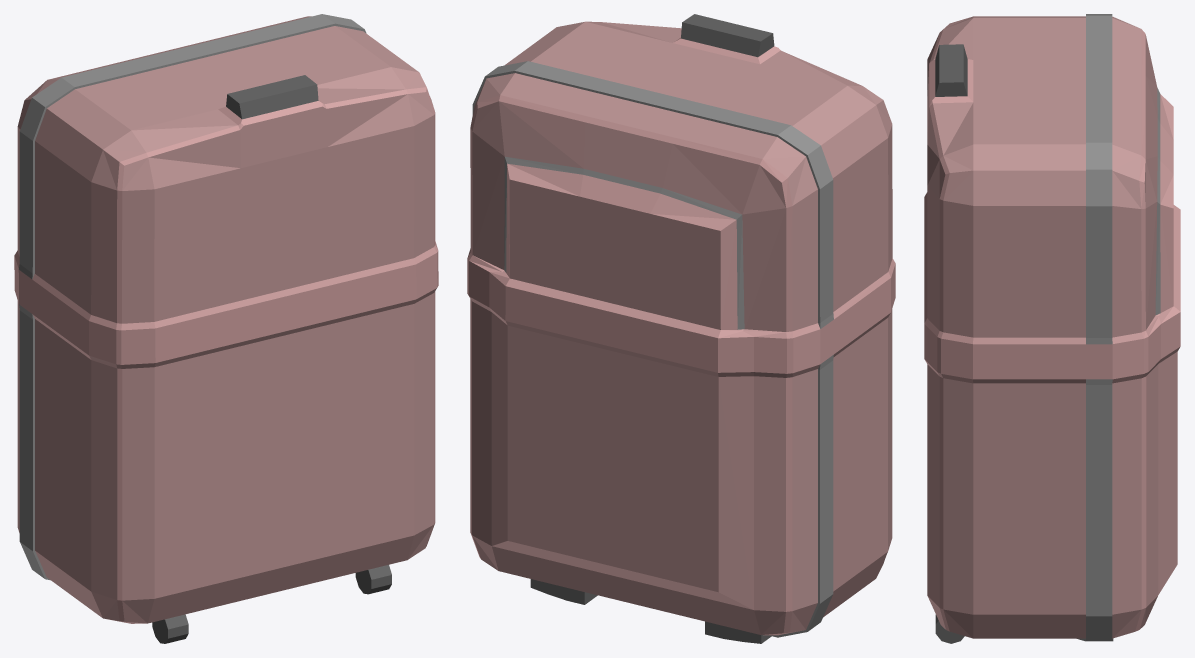
Rendered from suitcase.fbx.
The picture shows the model from 3 angles, left to right: view 1: azimuth 30°, elevation 25°; view 2: azimuth 150°, elevation 25°; view 3: azimuth 270°, elevation 25°; orthographic projection.
Visible parts, largest first — view 1: suitcase; view 2: suitcase; view 3: suitcase.
Part boxes in pixels (x1,y1,x2,y2): suitcase: (14, 14, 438, 643); suitcase: (467, 14, 895, 643); suitcase: (924, 14, 1180, 643).
Size of the model in its own units: 0.0678 by 0.099 by 0.0437.
